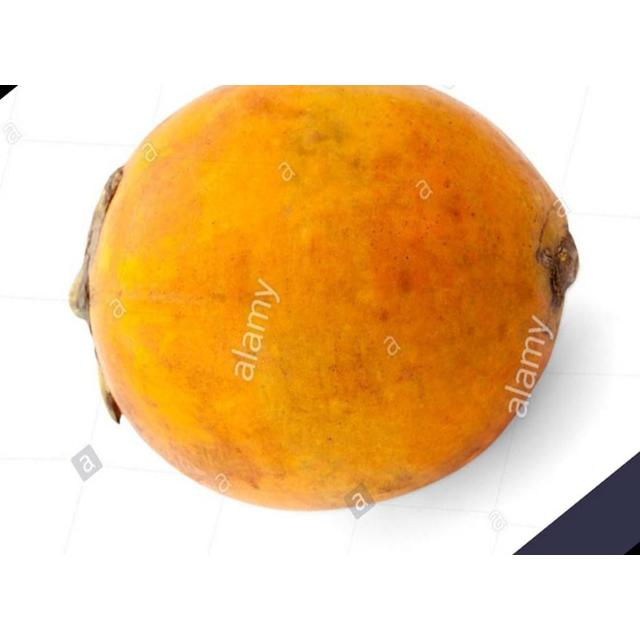good: (66, 85, 581, 516)
